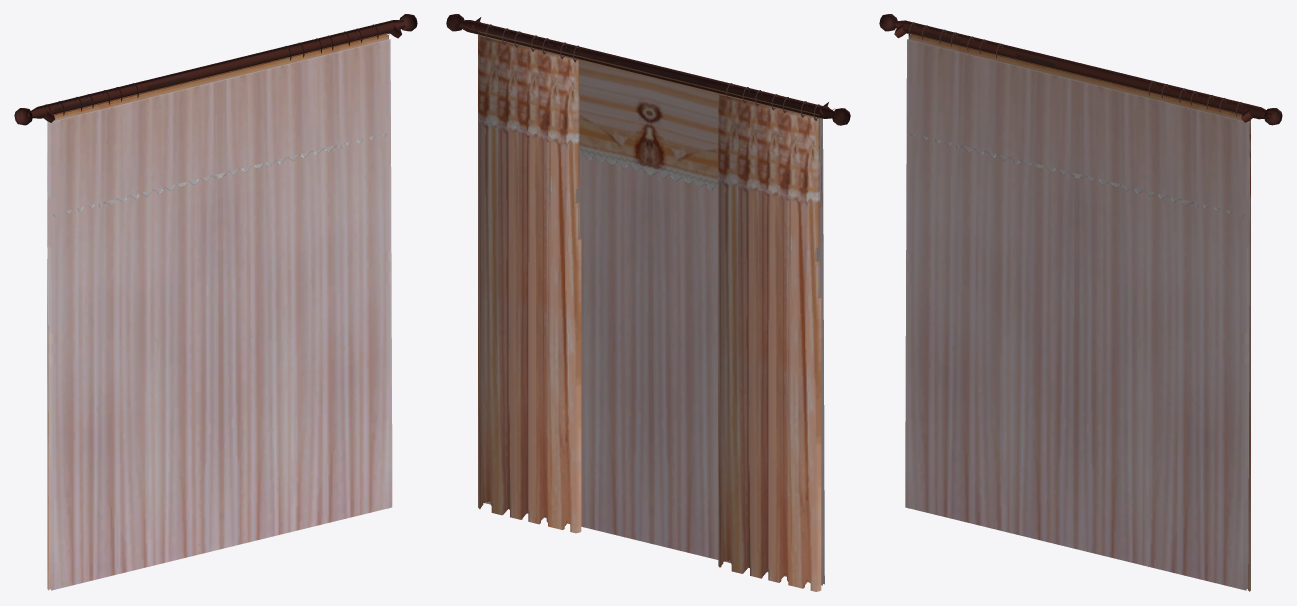
The model's file is furni_0200337.FBX.
The picture shows the model from 3 angles, left to right: view 1: azimuth 30°, elevation 25°; view 2: azimuth 150°, elevation 25°; view 3: azimuth 330°, elevation 25°; orthographic projection.
Parts seen in each view (by area): view 1: furni_0200337; view 2: furni_0200337; view 3: furni_0200337.
Part boxes in pixels (<box>): furni_0200337: <box>14,14,417,590</box>; furni_0200337: <box>446,14,850,591</box>; furni_0200337: <box>879,14,1282,591</box>.
Size of the model in its own units: 189 by 219 by 11.26.
Materials: 2 (2 with a texture image).
